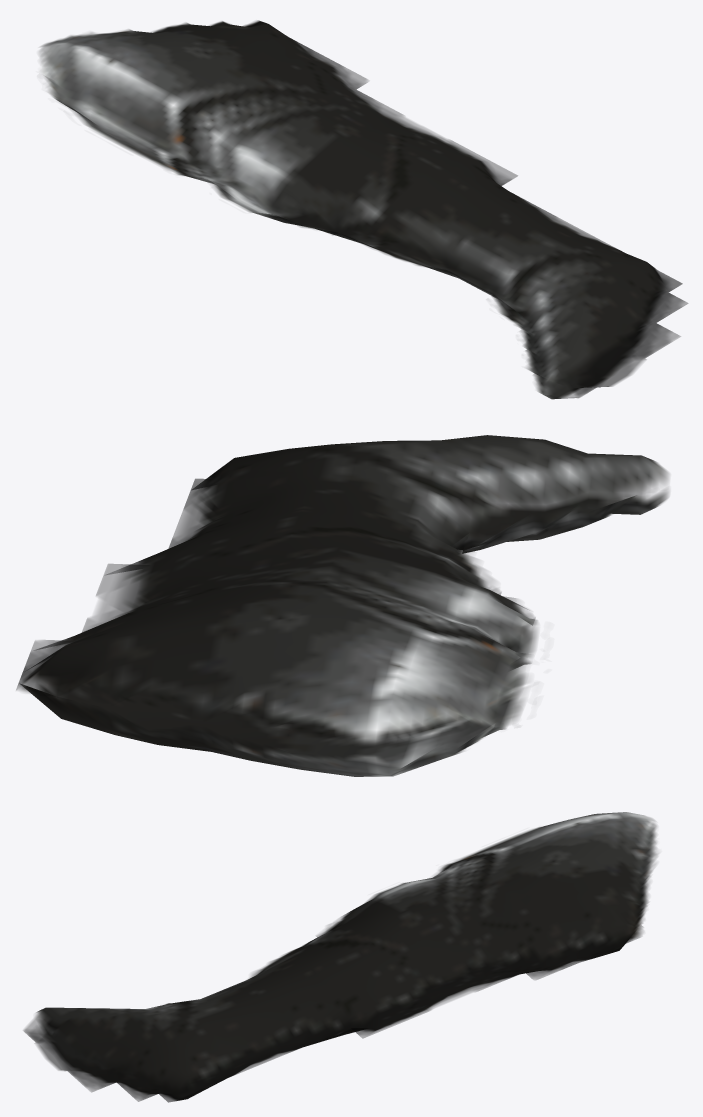
The model's file is drop_trousers.glb.
3 renders of one model, top to bottom at view 1: azimuth 30°, elevation 25°; view 2: azimuth 150°, elevation 25°; view 3: azimuth 270°, elevation 25°, orthographic. The views are drawn at different scales.
Visible parts, largest first — view 1: drop_trousers; view 2: drop_trousers; view 3: drop_trousers.
Boxes of the visible parts, <box> form: drop_trousers: <box>38,20,687,399</box>; drop_trousers: <box>16,435,669,776</box>; drop_trousers: <box>23,812,658,1102</box>.
Size of the model in its own units: 0.3709 by 0.1431 by 0.5581.
Materials: 1 (1 with a texture image).
